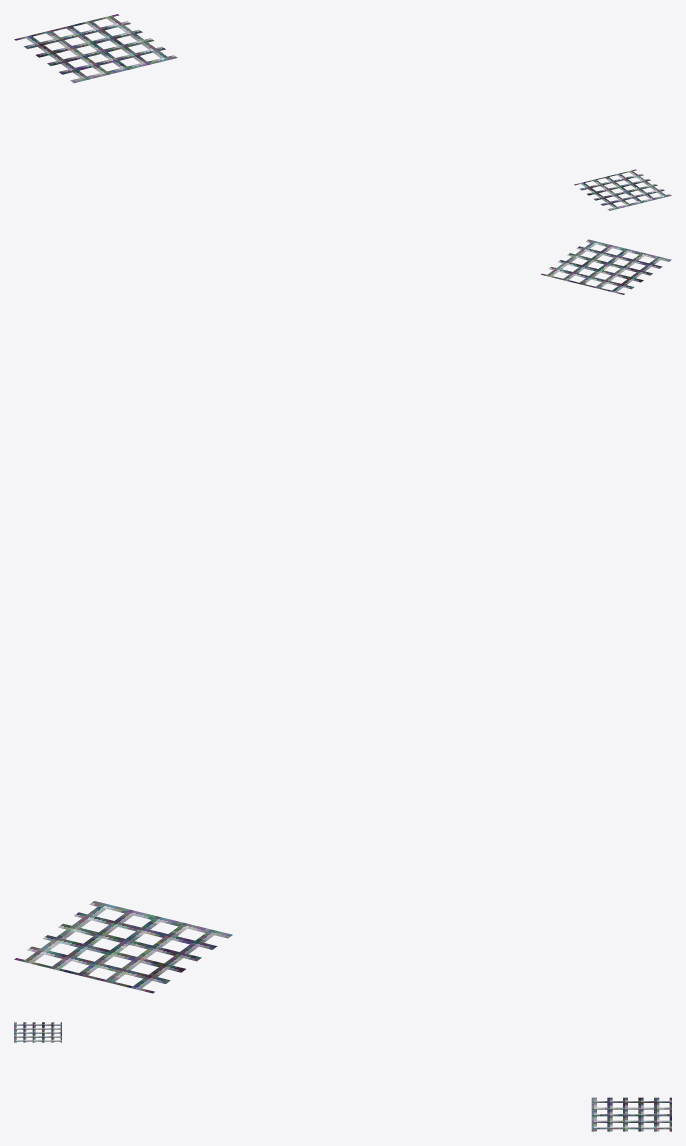
Rendered from MoatGrates.dae.
3 renders of one model, top to bottom at view 1: azimuth 30°, elevation 25°; view 2: azimuth 150°, elevation 25°; view 3: azimuth 270°, elevation 25°, orthographic. The views are drawn at different scales.
Parts seen in each view (by area): view 1: Node2_display; view 2: Node2_display; view 3: Node2_display.
Part boxes in pixels (bbox=[...]): Node2_display: bbox=[14, 14, 671, 210]; Node2_display: bbox=[14, 239, 671, 993]; Node2_display: bbox=[14, 1022, 671, 1131].
Bounding box in the file's own units: 819 × 768 × 4198.
Materials: 1 (1 with a texture image).
